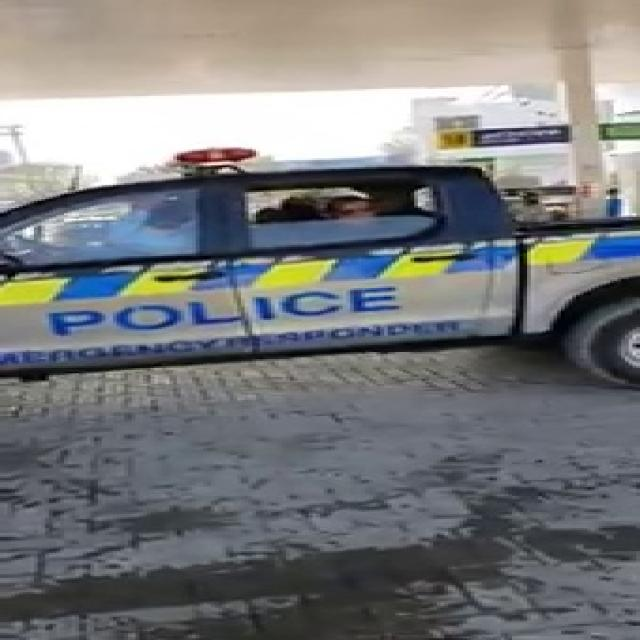police: (0, 165, 640, 391)
